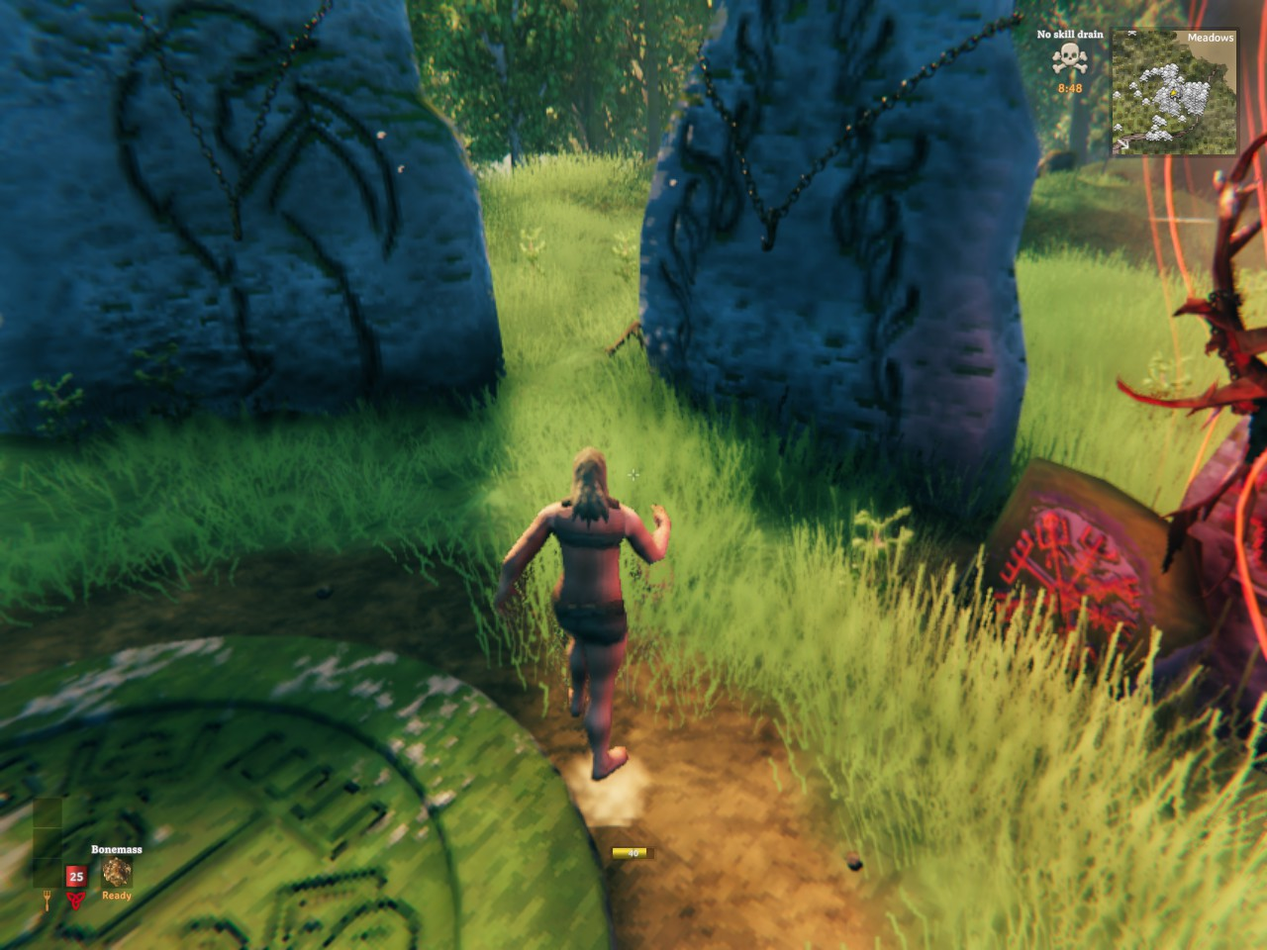Spawn Point: (0, 636, 615, 949)
